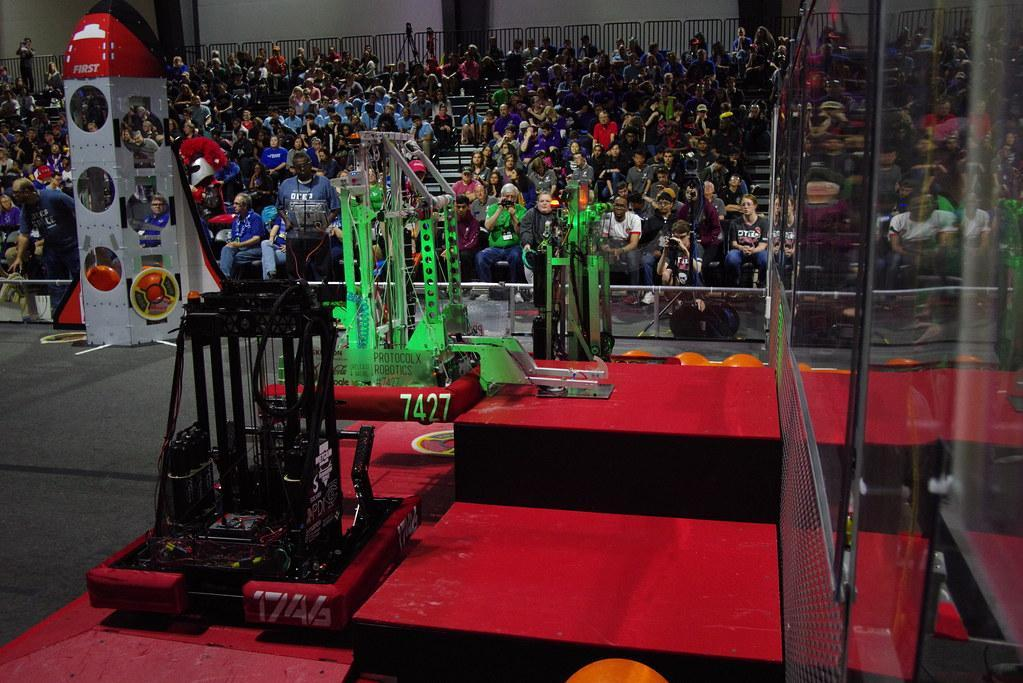robot: (80, 254, 428, 653), (252, 118, 621, 426), (487, 181, 653, 386)
